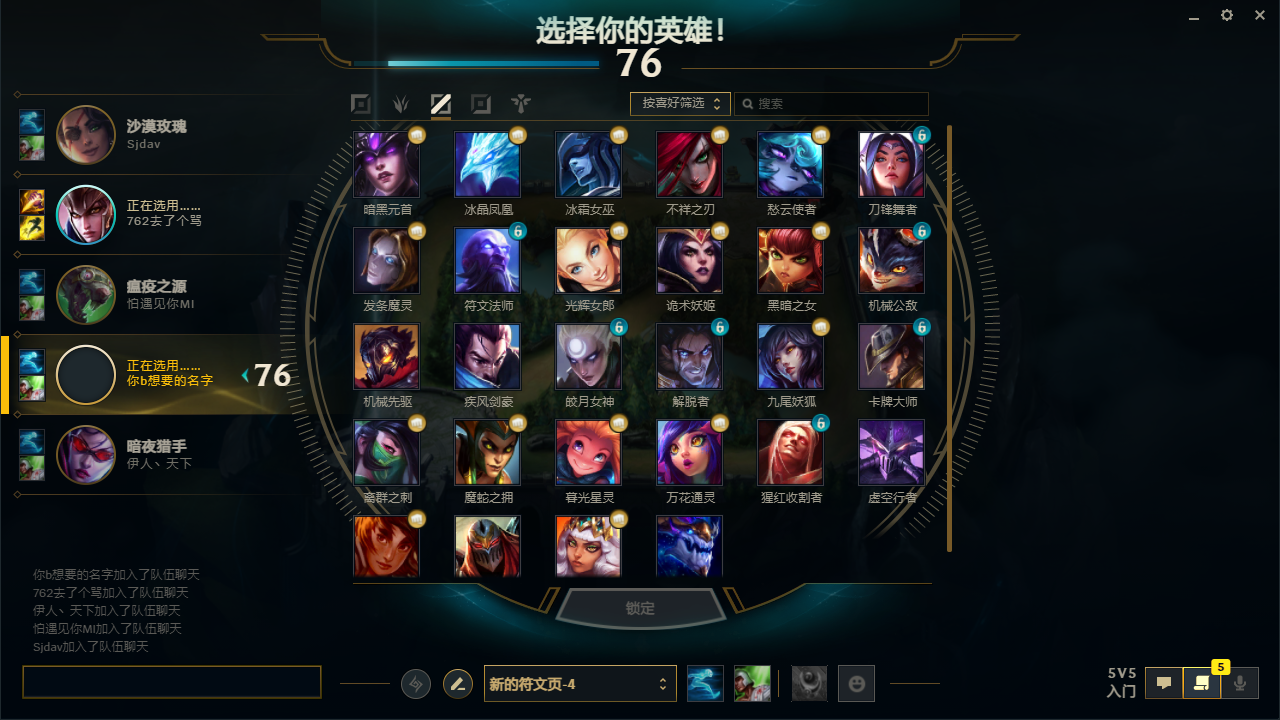HSSD: (546, 583, 734, 635)
XL: (464, 86, 499, 119)
